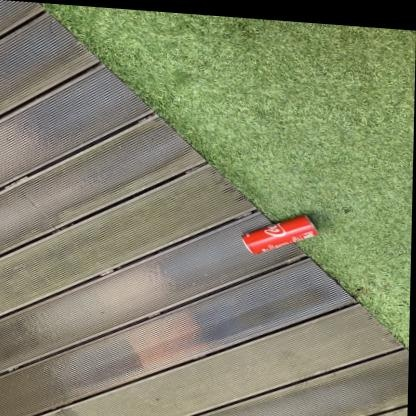trash: (242, 215, 317, 253)
